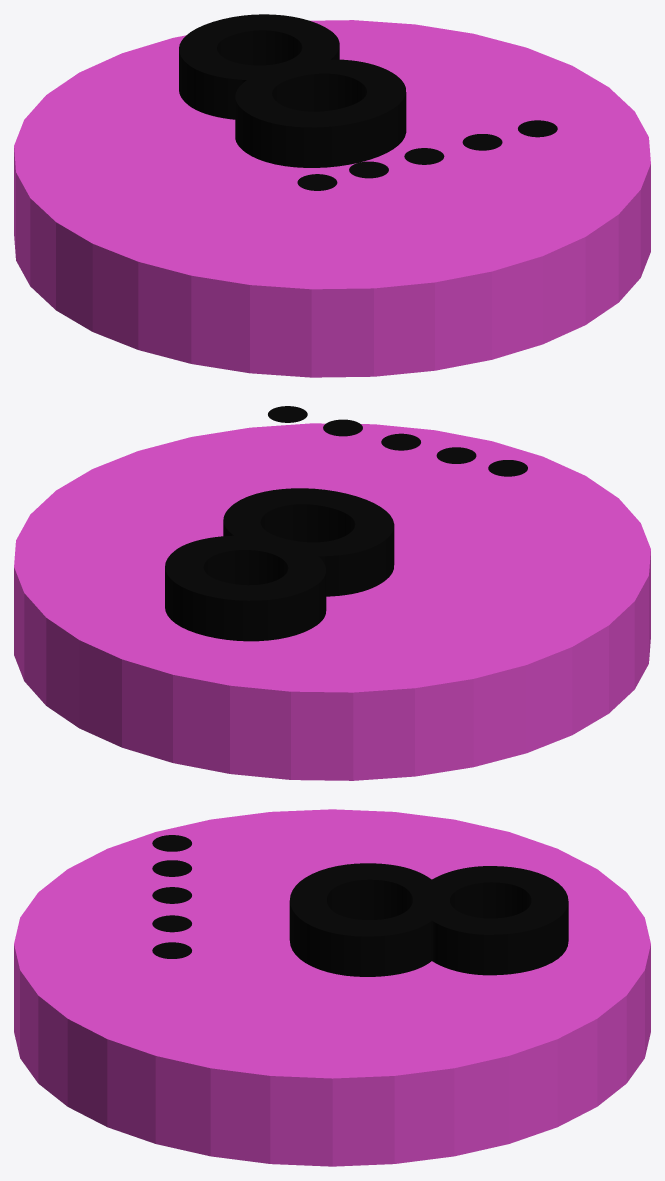
Rendered from eight.fbx.
3 views of the same model, one above another, from view 1: azimuth 30°, elevation 25°; view 2: azimuth 150°, elevation 25°; view 3: azimuth 270°, elevation 25° (orthographic).
Parts seen in each view (by area): view 1: Circle, Text.001, Circle.007, Circle.003, Circle.002, Circle.001, Circle.008; view 2: Circle, Text.001, Circle.002, Circle.001, Circle.007, Circle.008, Circle.003; view 3: Circle, Text.001, Circle.002, Circle.008, Circle.003, Circle.007, Circle.001.
Boxes of the visible parts, left/top/right/bottom form: Circle: left=14, top=20, right=650, bottom=377; Text.001: left=179, top=14, right=406, bottom=167; Circle.007: left=349, top=161, right=388, bottom=178; Circle.003: left=518, top=120, right=557, bottom=137; Circle.002: left=462, top=134, right=502, bottom=150; Circle.001: left=404, top=148, right=444, bottom=164; Circle.008: left=297, top=174, right=337, bottom=190; Circle: left=14, top=423, right=650, bottom=780; Text.001: left=165, top=488, right=394, bottom=641; Circle.002: left=323, top=419, right=362, bottom=436; Circle.001: left=381, top=433, right=420, bottom=450; Circle.007: left=436, top=447, right=476, bottom=463; Circle.008: left=488, top=460, right=527, bottom=476; Circle.003: left=268, top=406, right=307, bottom=422; Circle: left=14, top=809, right=650, bottom=1166; Text.001: left=289, top=863, right=568, bottom=976; Circle.002: left=152, top=915, right=191, bottom=932; Circle.008: left=152, top=835, right=191, bottom=851; Circle.003: left=152, top=942, right=191, bottom=958; Circle.007: left=152, top=860, right=191, bottom=876; Circle.001: left=152, top=887, right=191, bottom=903.
Size of the model in its own units: 200 by 49.27 by 200.
